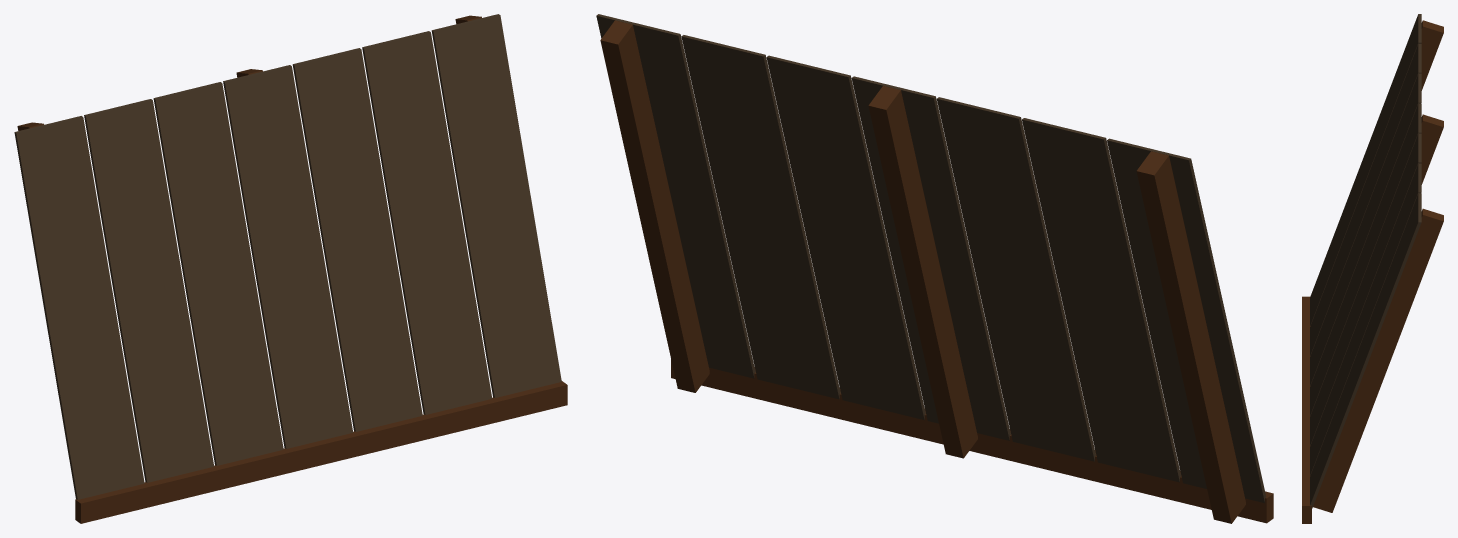
File: SM_Izba_RoofHalf_1348_LOD1.obj
3 renders of one model, left to right at view 1: azimuth 30°, elevation 25°; view 2: azimuth 150°, elevation 25°; view 3: azimuth 270°, elevation 25°, orthographic. The views are drawn at different scales.
Visible parts, largest first — view 1: overlapping_oak_shingle, ridge_board; view 2: overlapping_oak_shingle, sloped_rafter, ridge_board; view 3: overlapping_oak_shingle, sloped_rafter, ridge_board.
Part boxes in pixels (x1,y1,x2,y2): overlapping_oak_shingle: (14, 14, 561, 499); ridge_board: (75, 381, 567, 523); overlapping_oak_shingle: (596, 14, 1266, 503); sloped_rafter: (600, 20, 1245, 523); ridge_board: (671, 359, 1273, 523); overlapping_oak_shingle: (1310, 14, 1421, 508); sloped_rafter: (1313, 20, 1443, 512); ridge_board: (1302, 296, 1311, 523).
Bounding box in the file's own units: 4 × 2.69 × 1.15.
